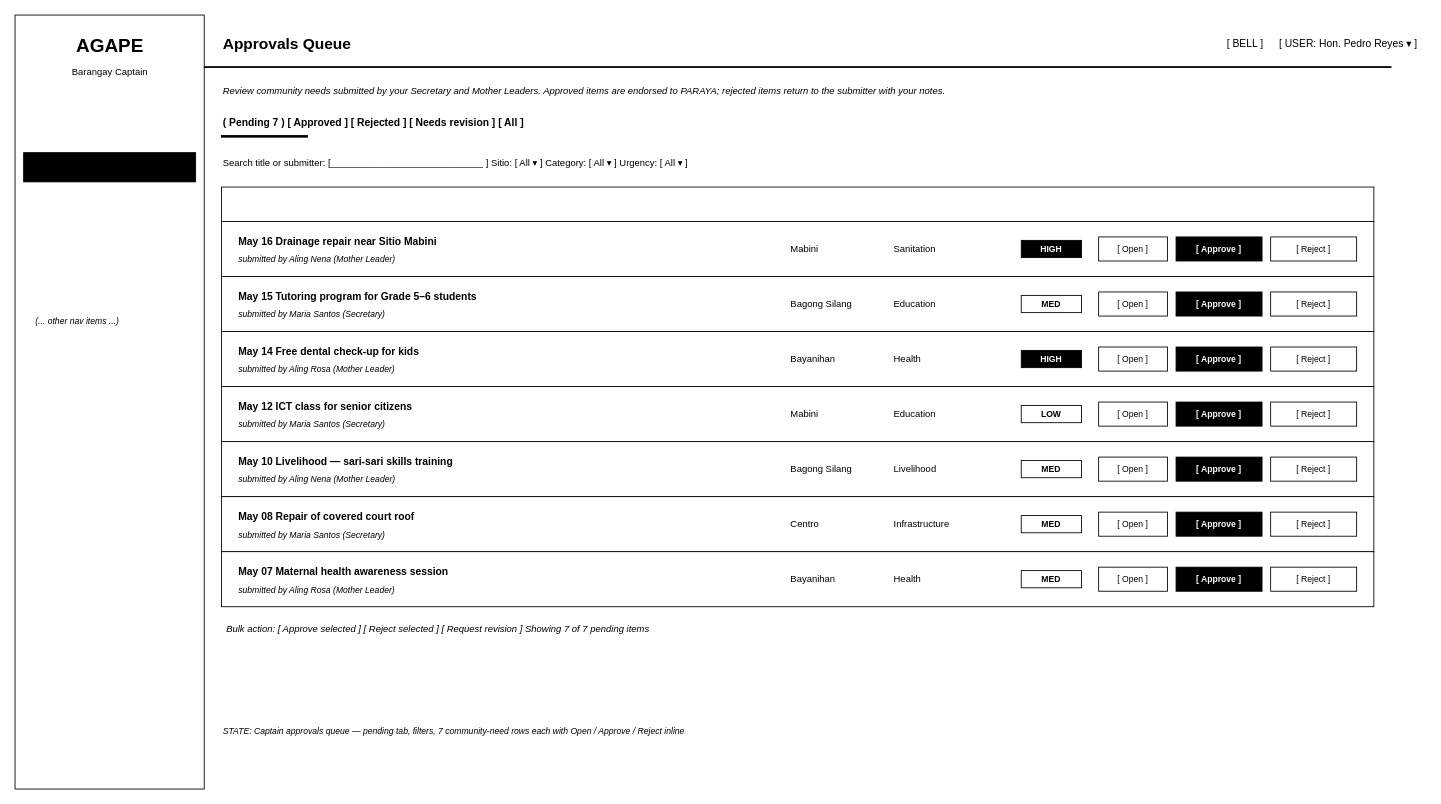
This 1441x804 diagram has some shape labels left out. The centre of each missing label's shape, as x and y in pixels:
"[x] Approvals" belongs at point 109,167.
"DATE TITLE / SUBMITTER SITIO CATEGORY URGENCY ACTIONS" belongs at point 797,203.
